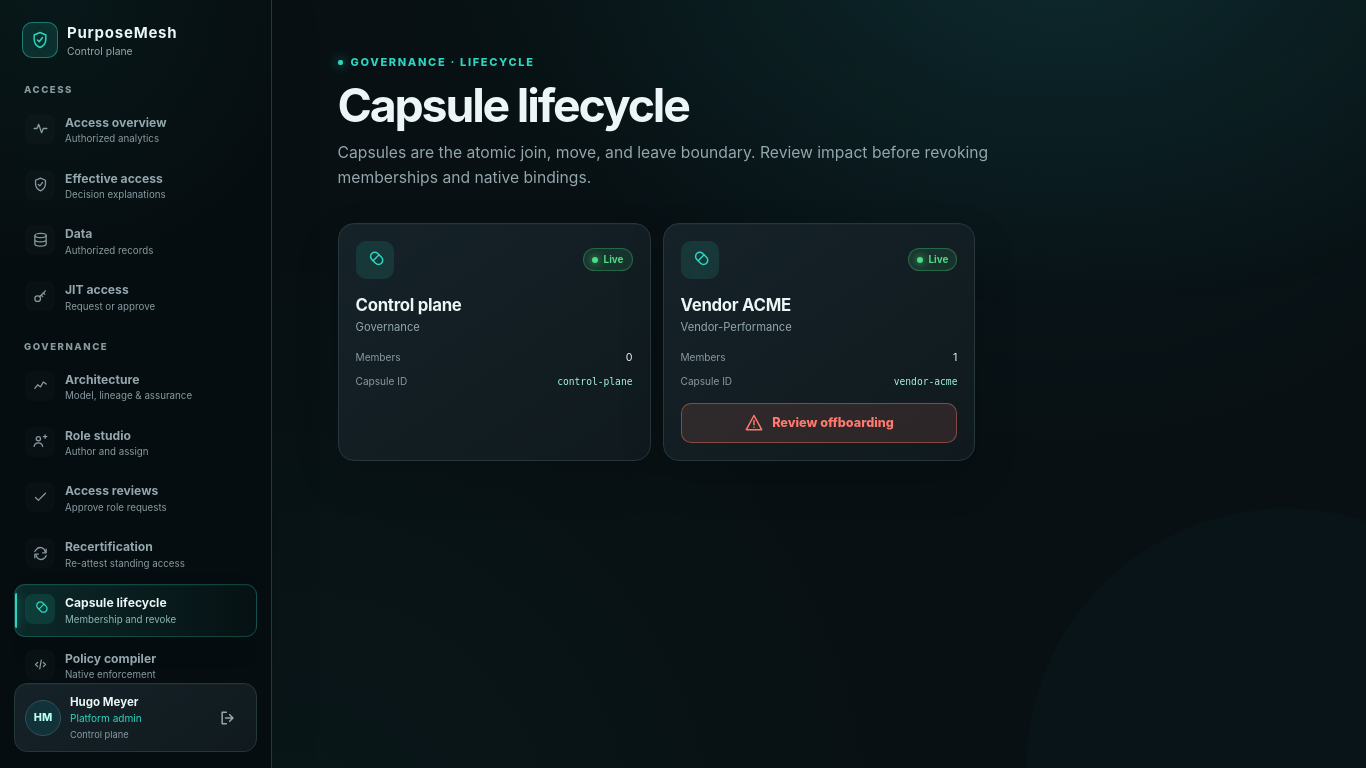
authorization-aware navigation › reviews and executes capsule offboarding through the lifecycle API
The image size is (1366, 768).
Step 1. Click the button "Review offboarding" → (819, 423), box [680,403,958,443]
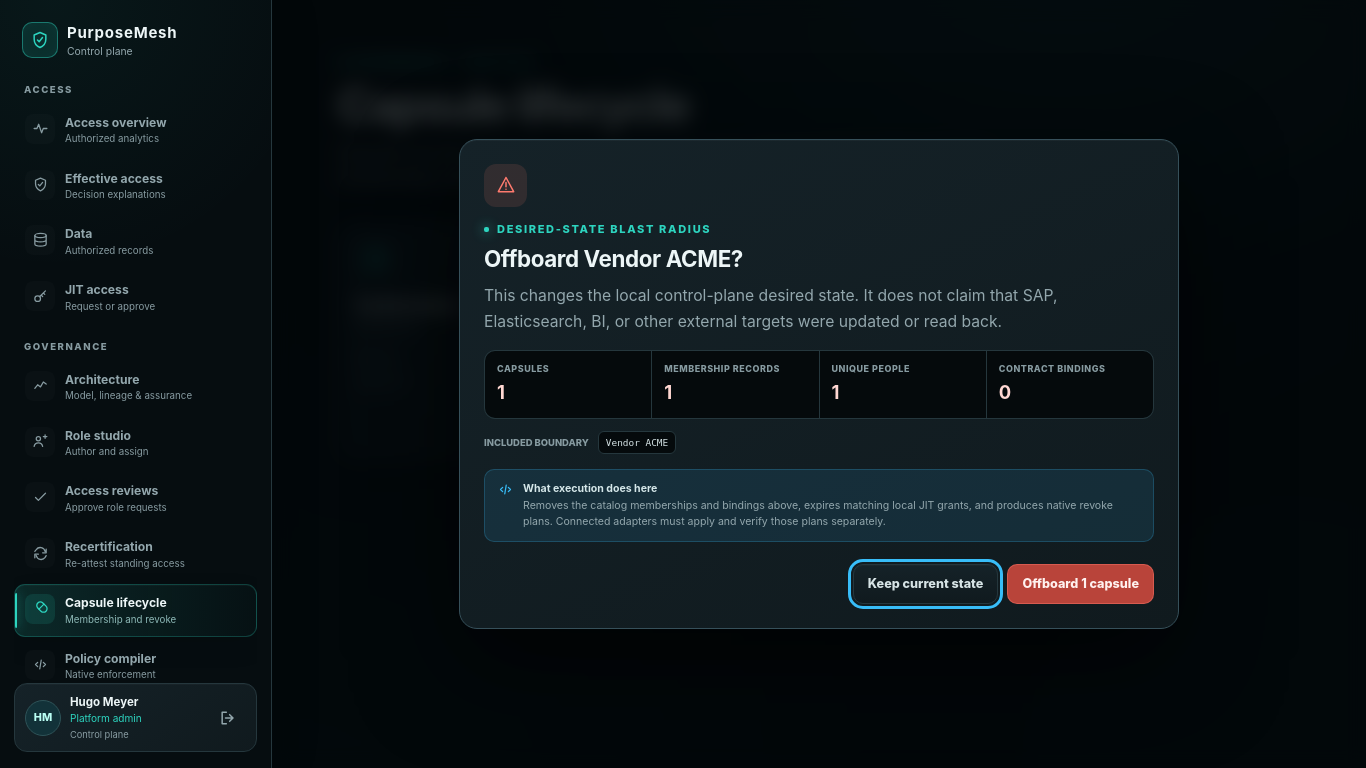
Expected: the dialog "Offboard Vendor ACME?" is shown, [459,139,1179,629]
Step 2. Click the button "Offboard 1 capsule" → (1081, 584), box [1007,564,1154,604]
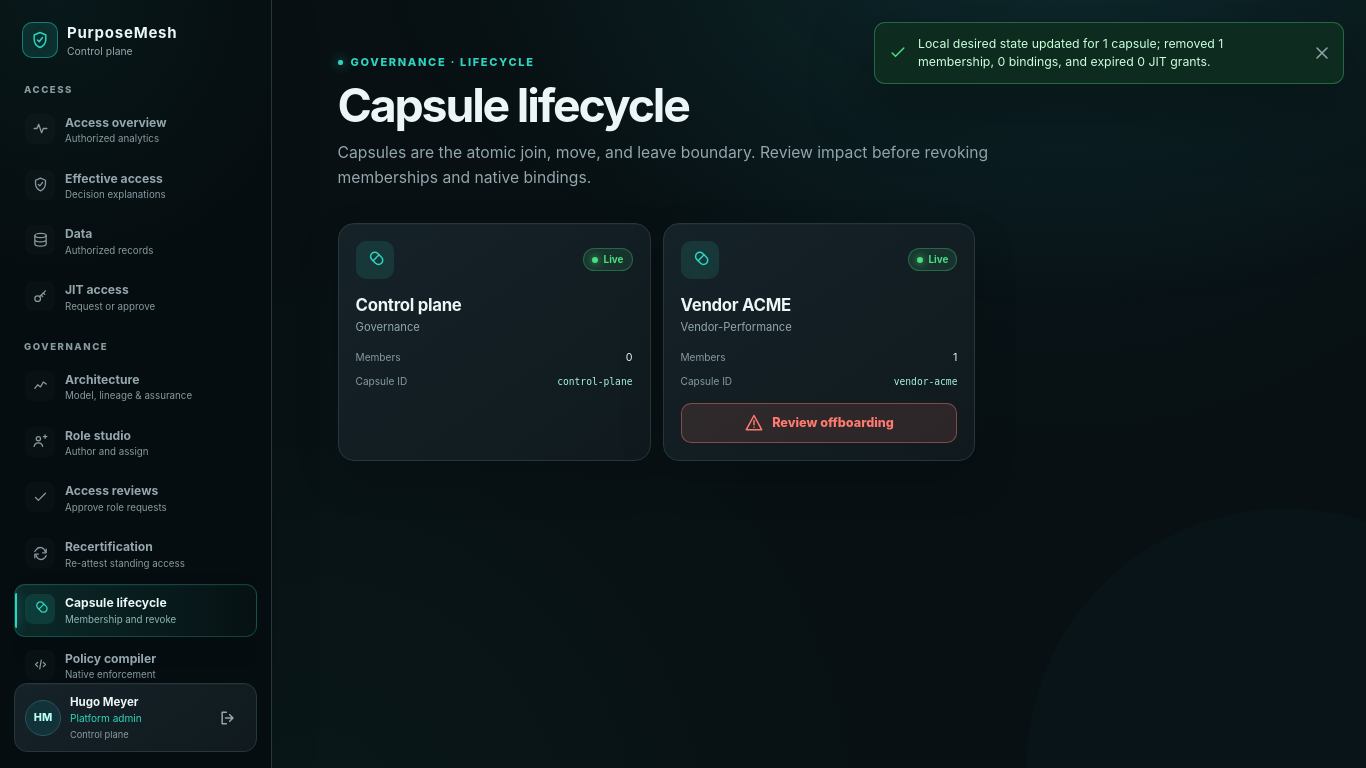
Expected: the message shows "removed 1 membership", [918,36,1223,69]
